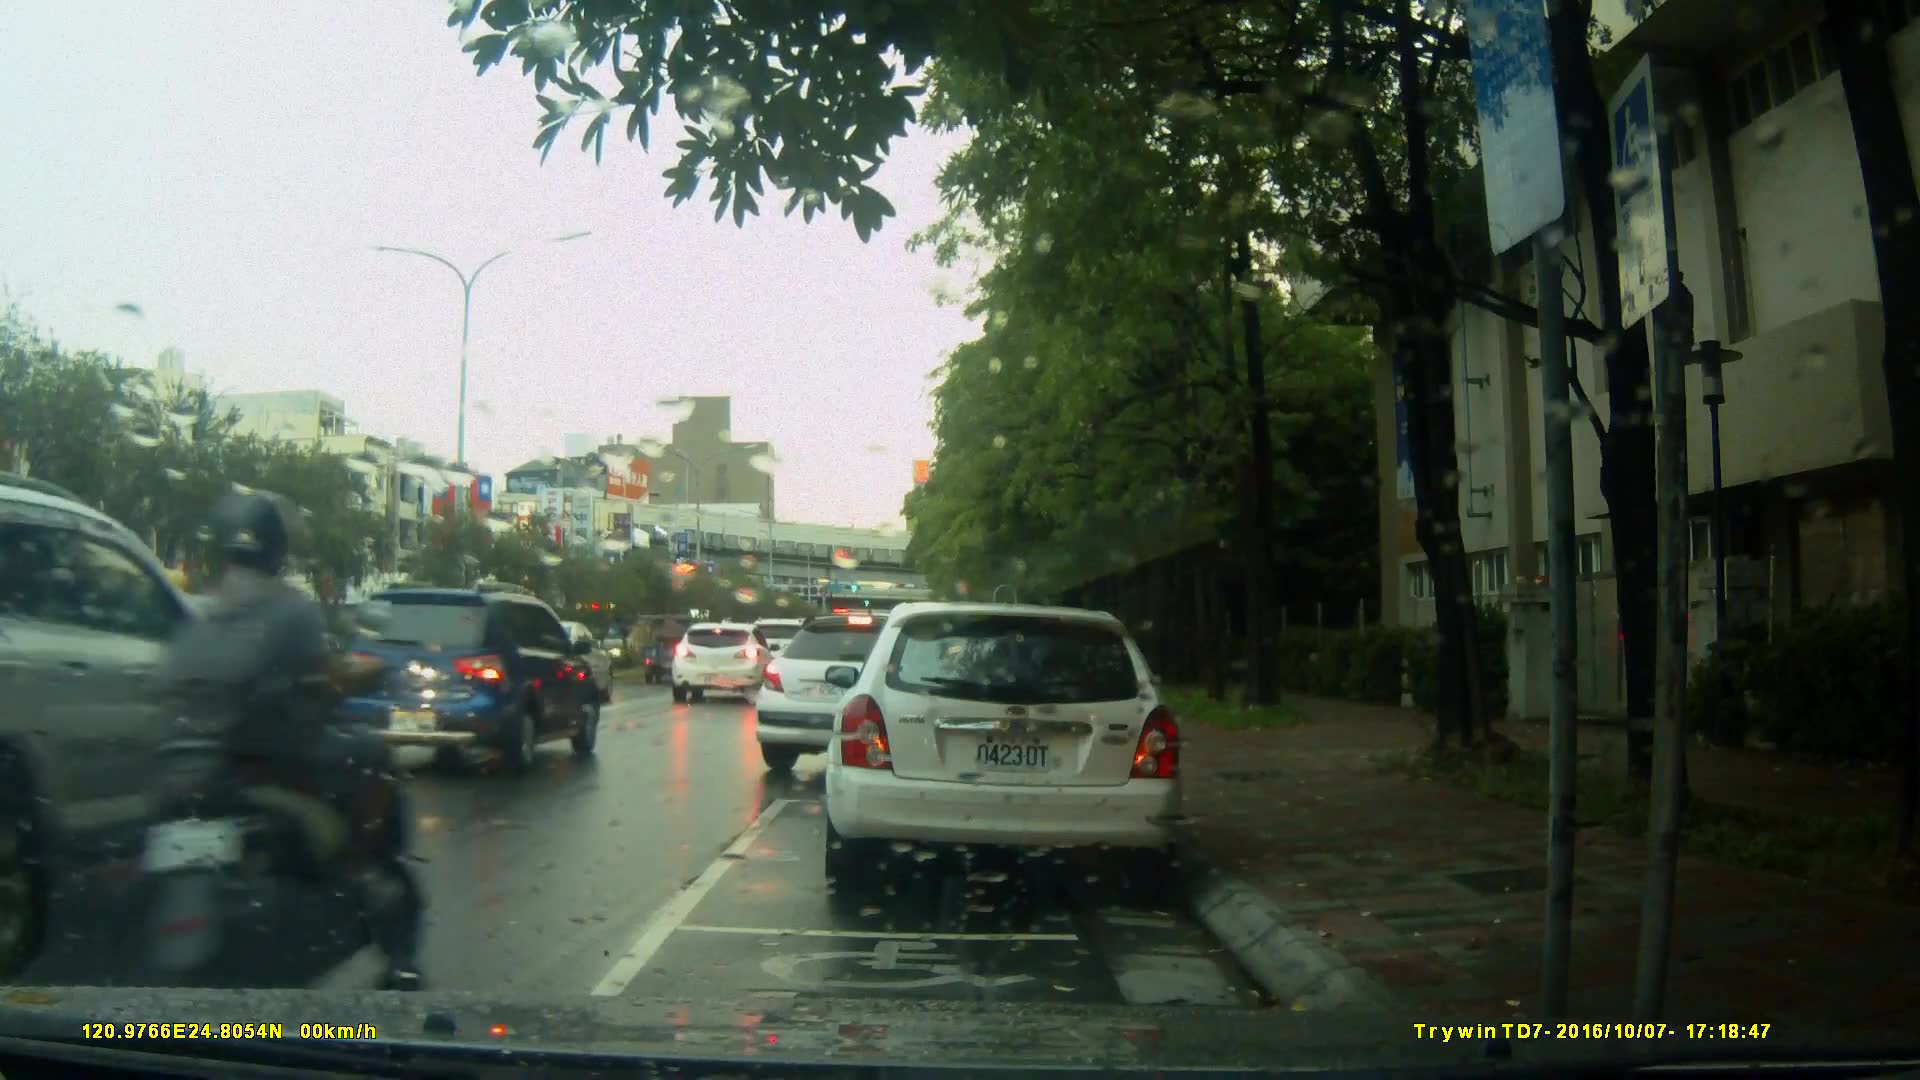rider: (143, 484, 432, 1018)
vehicle: (1, 470, 323, 963), (820, 602, 1188, 898), (329, 580, 604, 773), (747, 612, 1027, 785), (671, 620, 773, 705)
